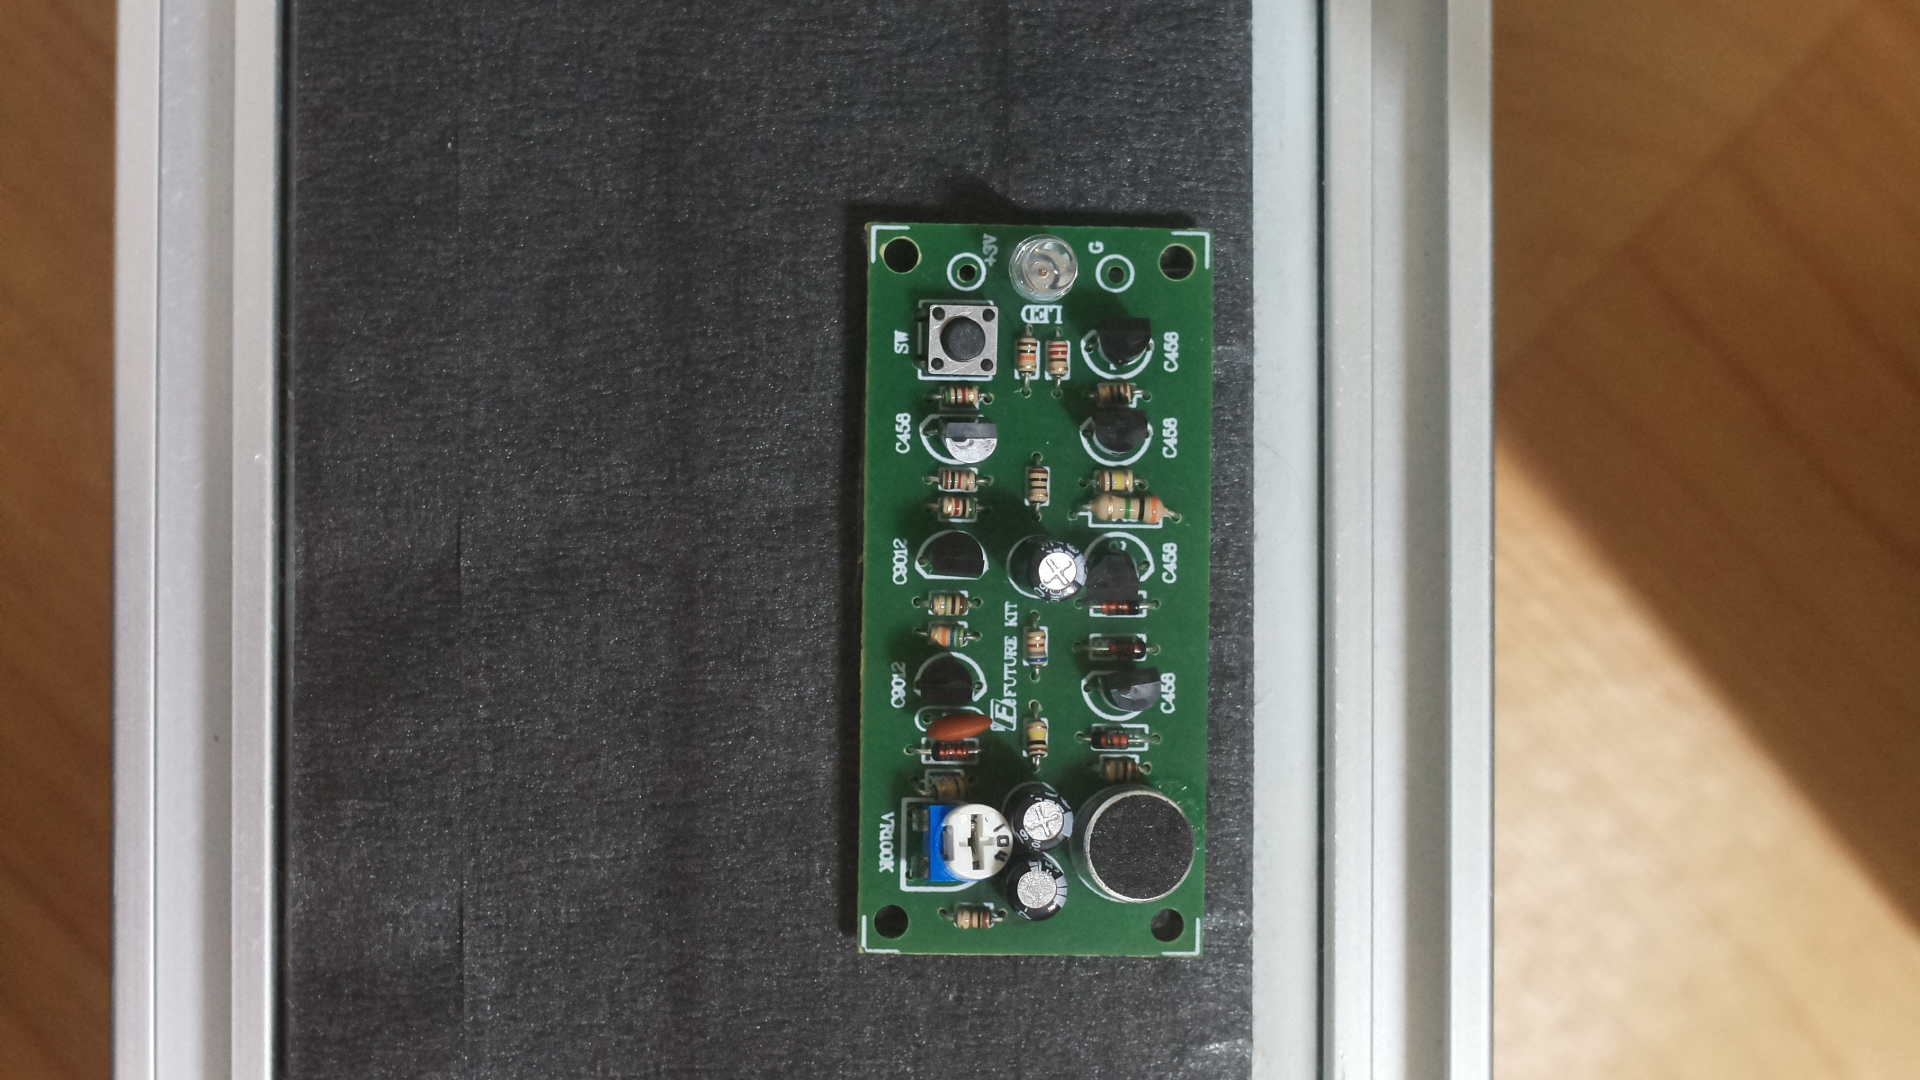A_Normal: (816, 171, 1220, 989)
